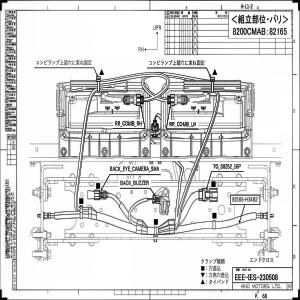PartNumber: (232, 196, 258, 203)
